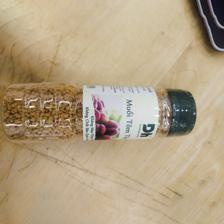TayNinh_green: (1, 81, 198, 143)
